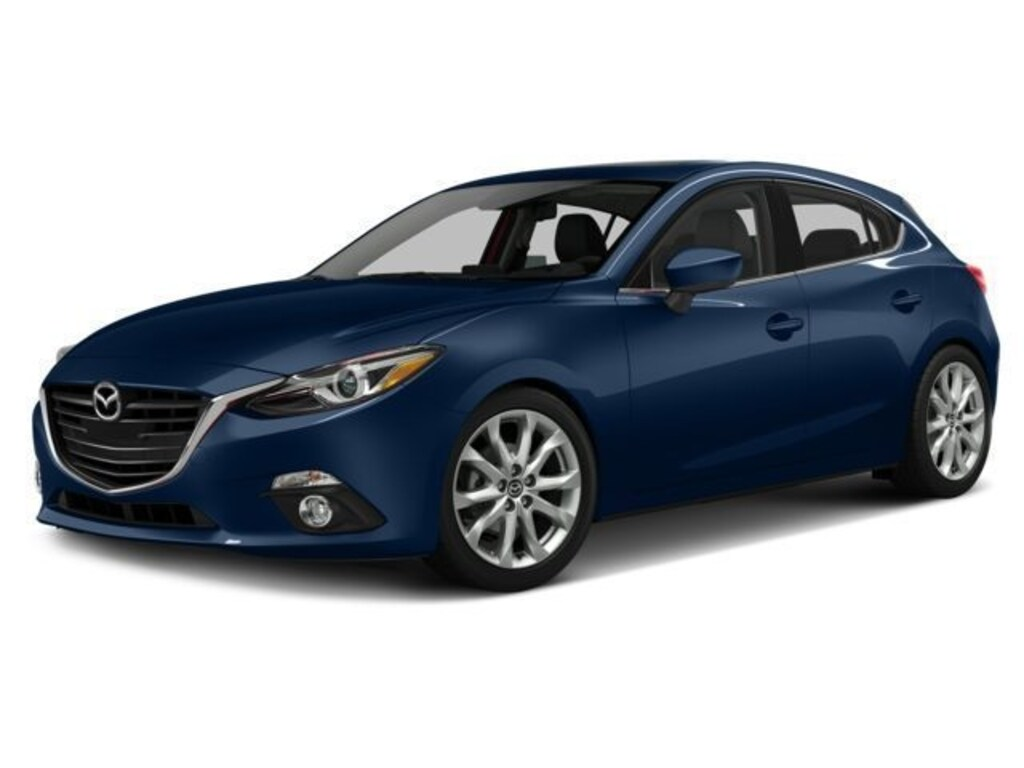Mazda3 Hatchback: (31, 160, 1001, 592)
